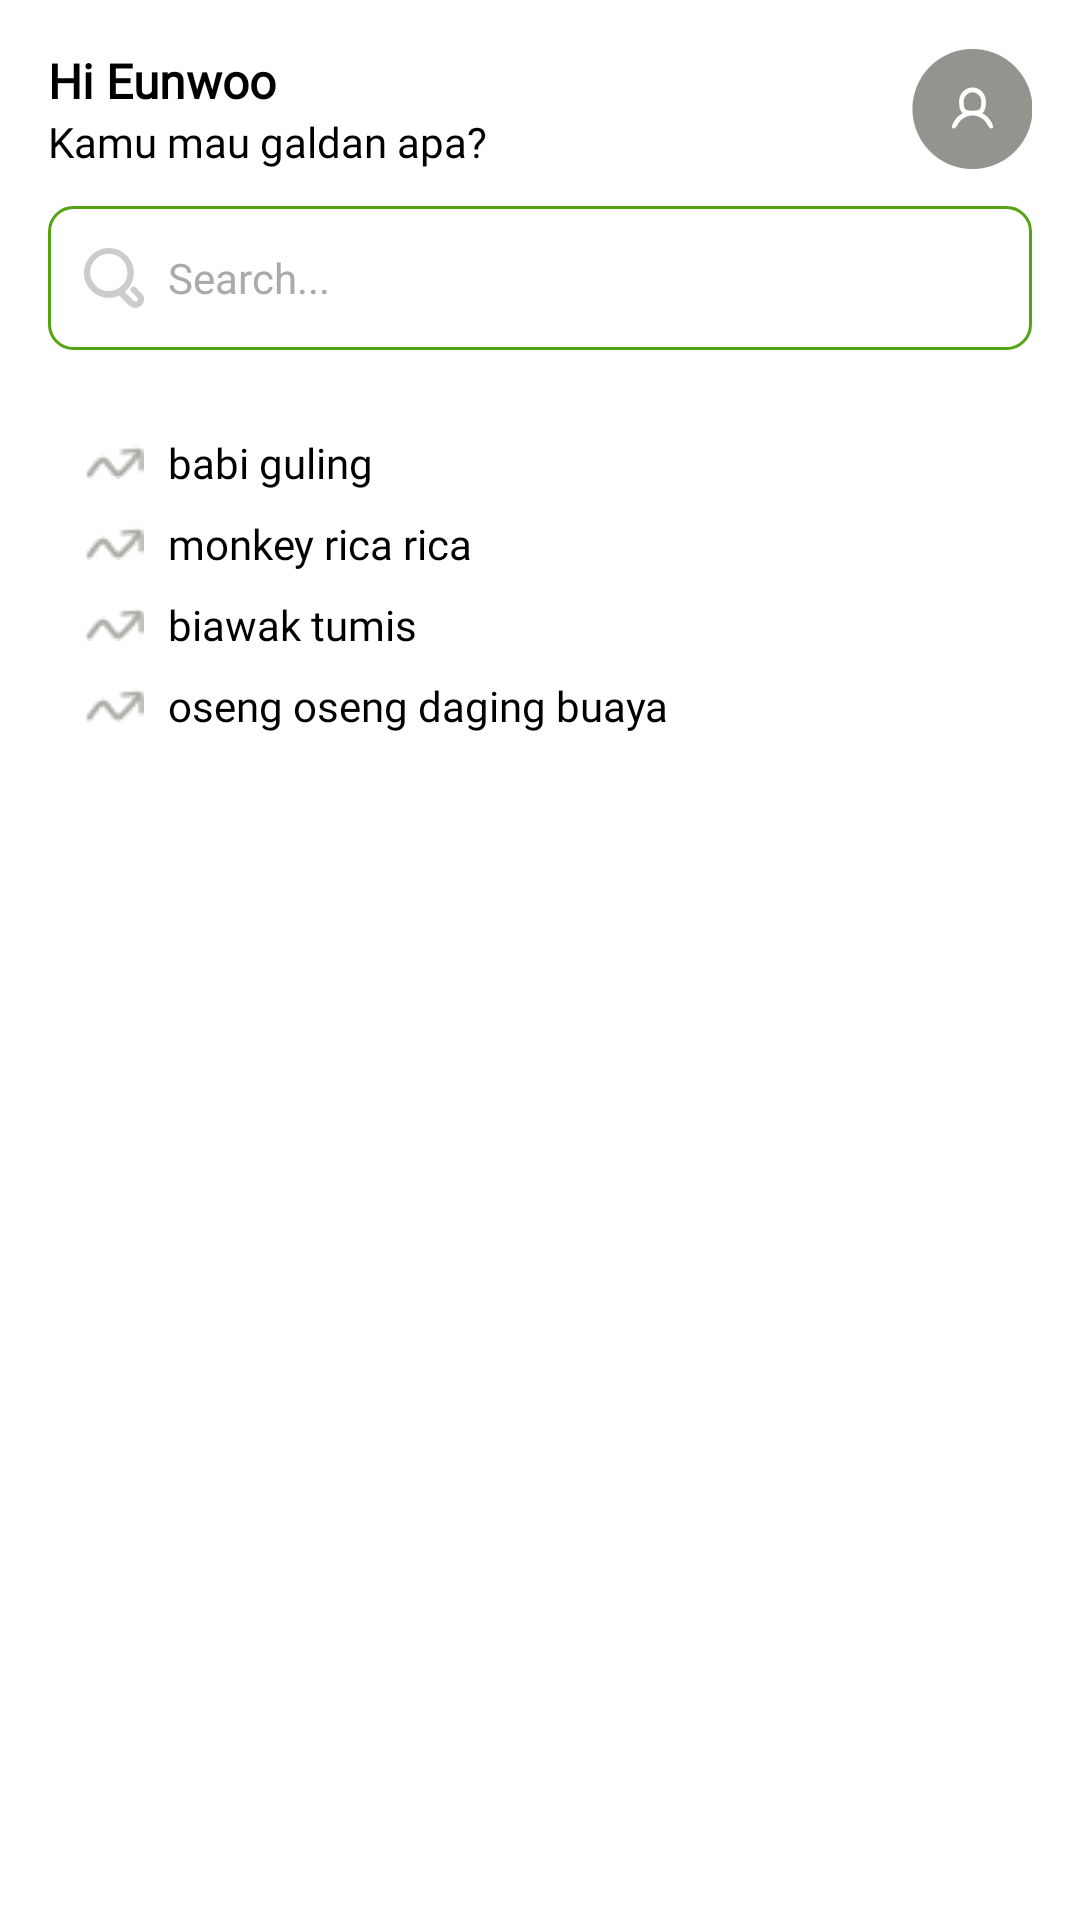

Icon click points for this 1080 × 1920 phone screenshot, format [x,y]:
avatars: [972,109]
